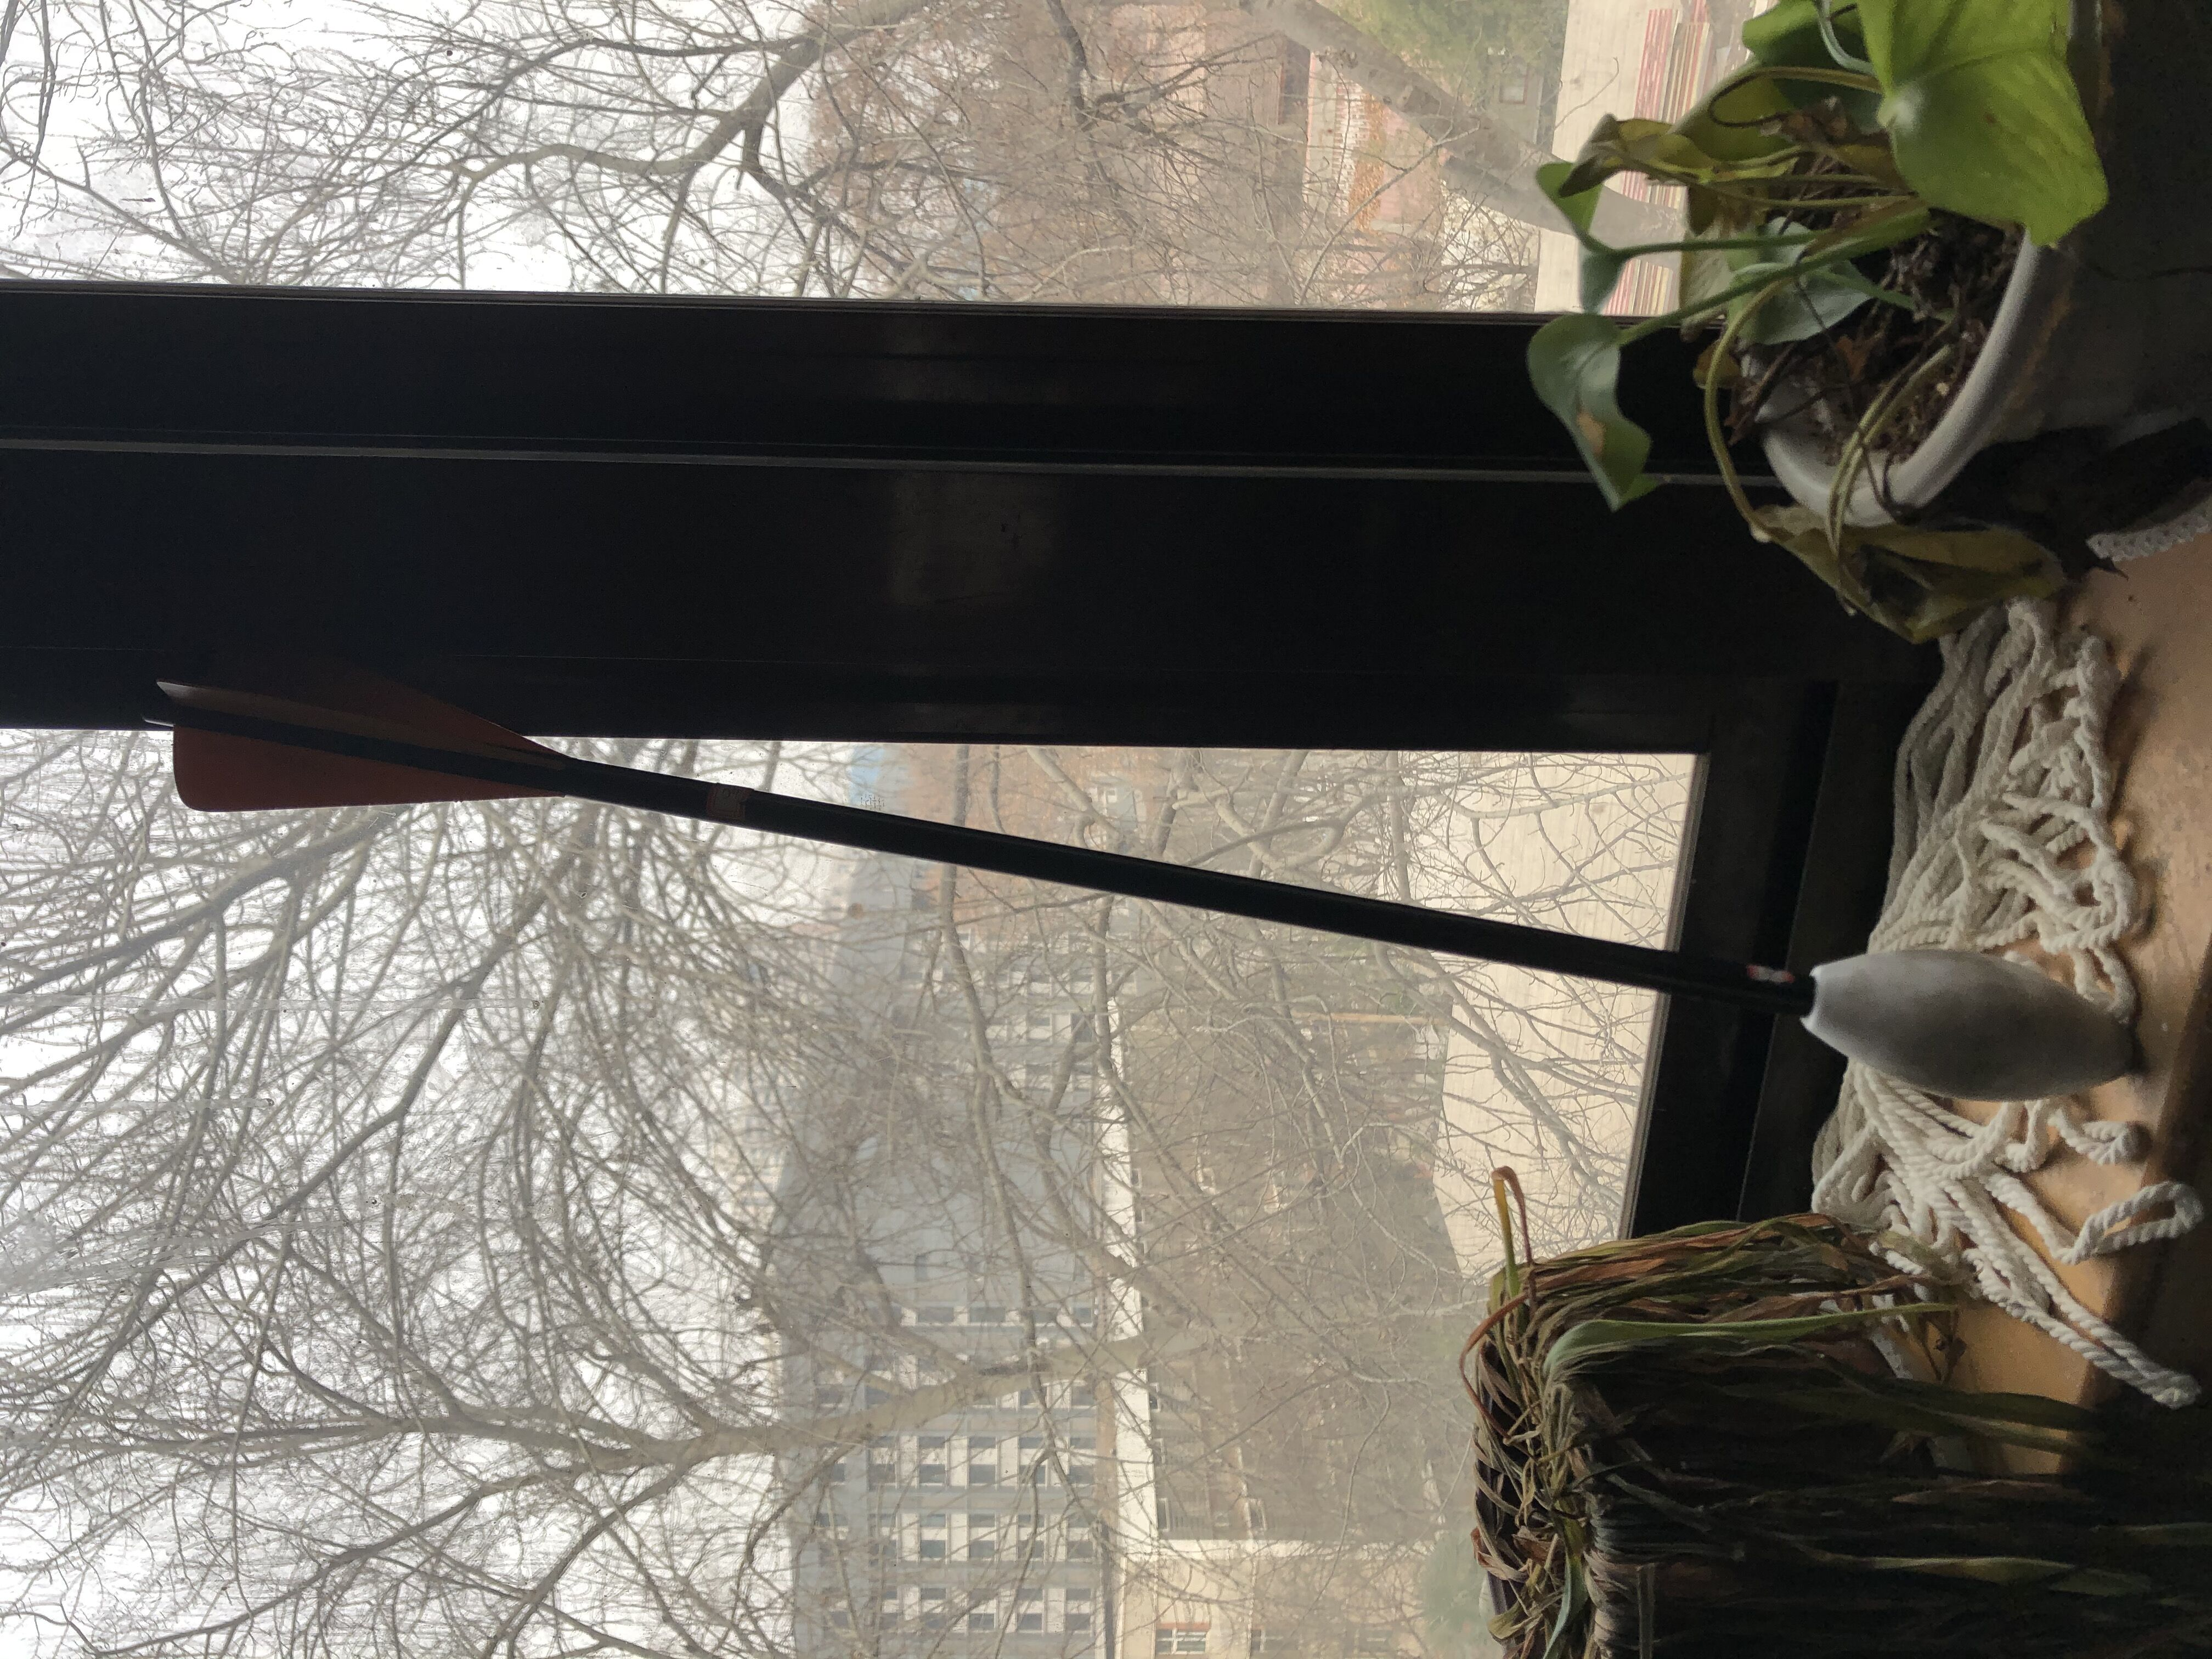arrow: (138, 662, 2128, 1100)
arrowFront: (1803, 945, 2128, 1103)
